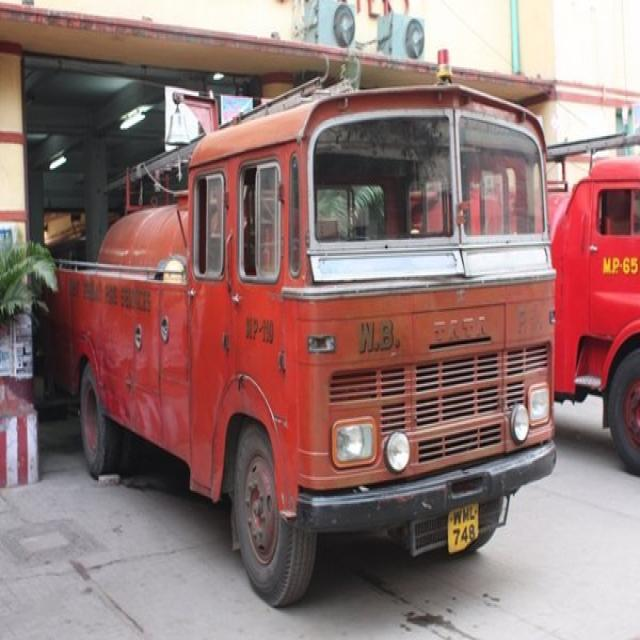emergency: (46, 81, 555, 605)
